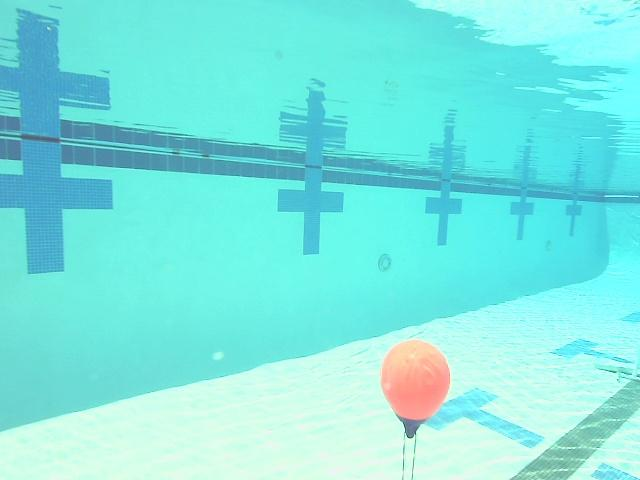buoy: (379, 339, 450, 439)
